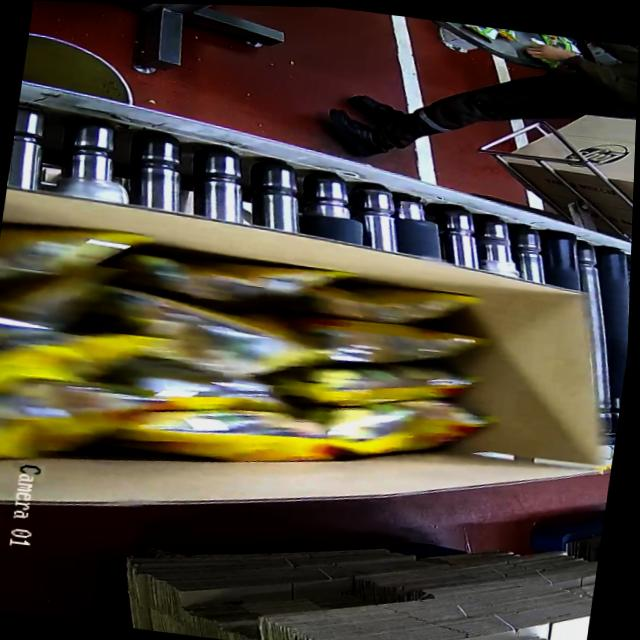SALTED: (0, 208, 487, 504)
